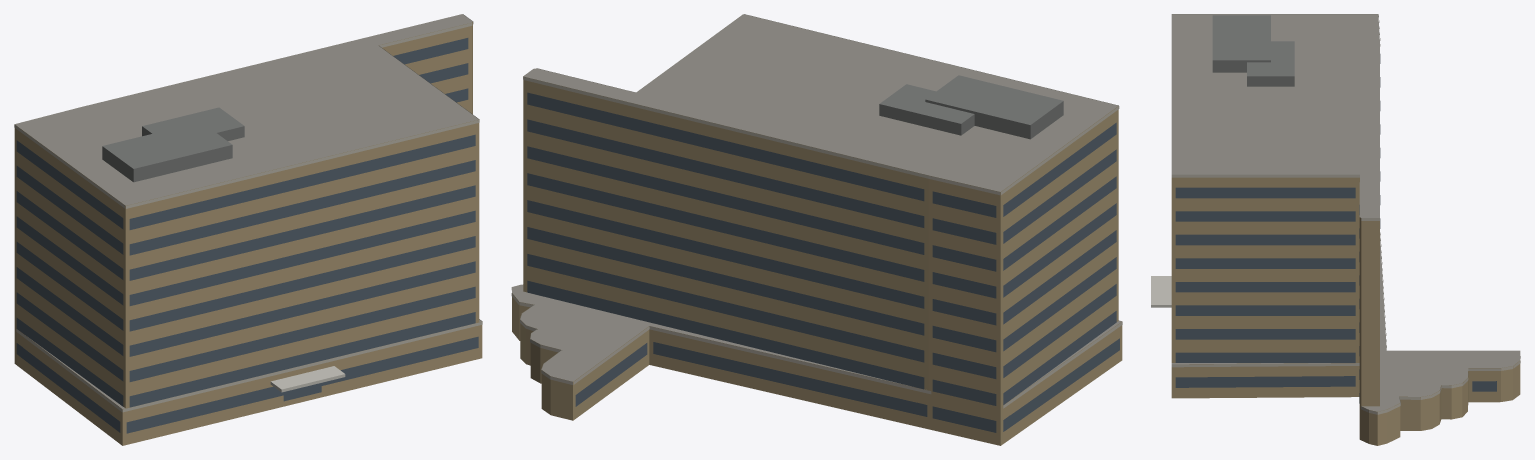
The model's file is freeway-medical-tower.glb.
3 views of the same model, side by side, from view 1: azimuth 30°, elevation 25°; view 2: azimuth 150°, elevation 25°; view 3: azimuth 270°, elevation 25° (orthographic). The views are drawn at different scales.
Parts seen in each view (by area): view 1: freeway_medical_tower; view 2: freeway_medical_tower; view 3: freeway_medical_tower.
Boxes of the visible parts, left/top/right/bottom form: freeway_medical_tower: left=14, top=14, right=482, bottom=445; freeway_medical_tower: left=511, top=14, right=1122, bottom=445; freeway_medical_tower: left=1151, top=14, right=1520, bottom=445.
Size of the model in its own units: 73.04 by 37.92 by 54.09.
